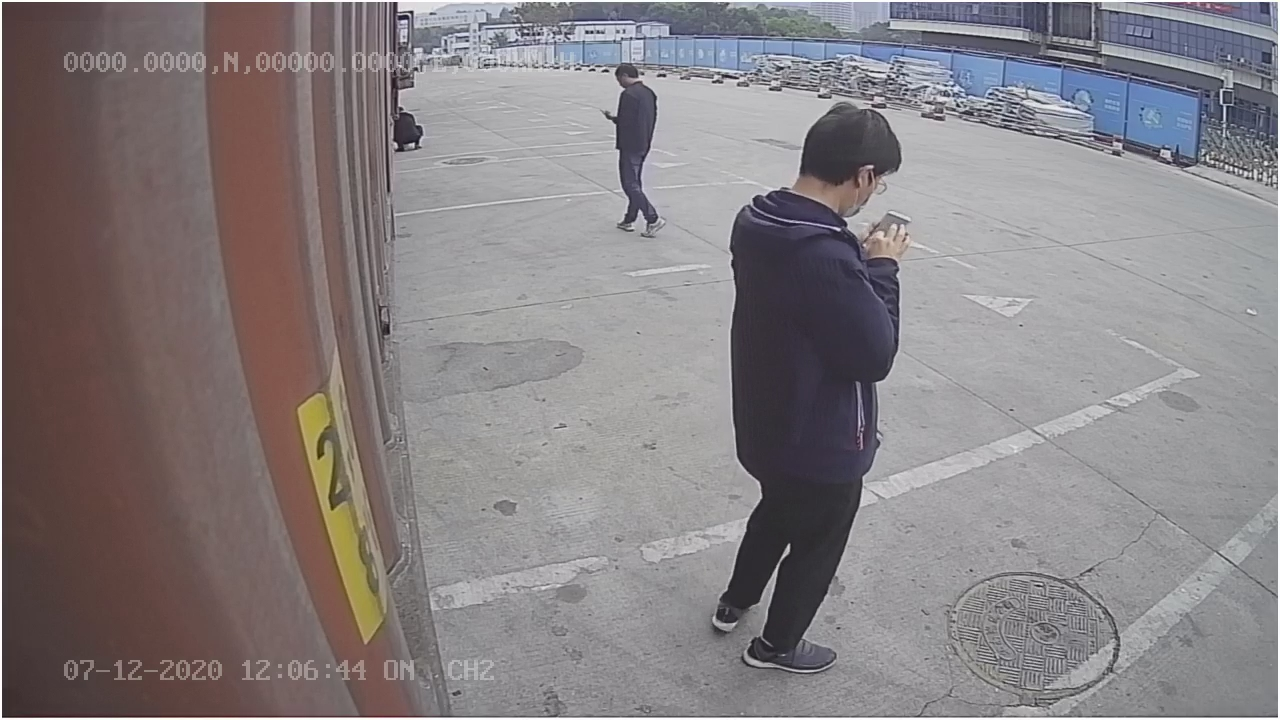person: (705, 100, 913, 669)
